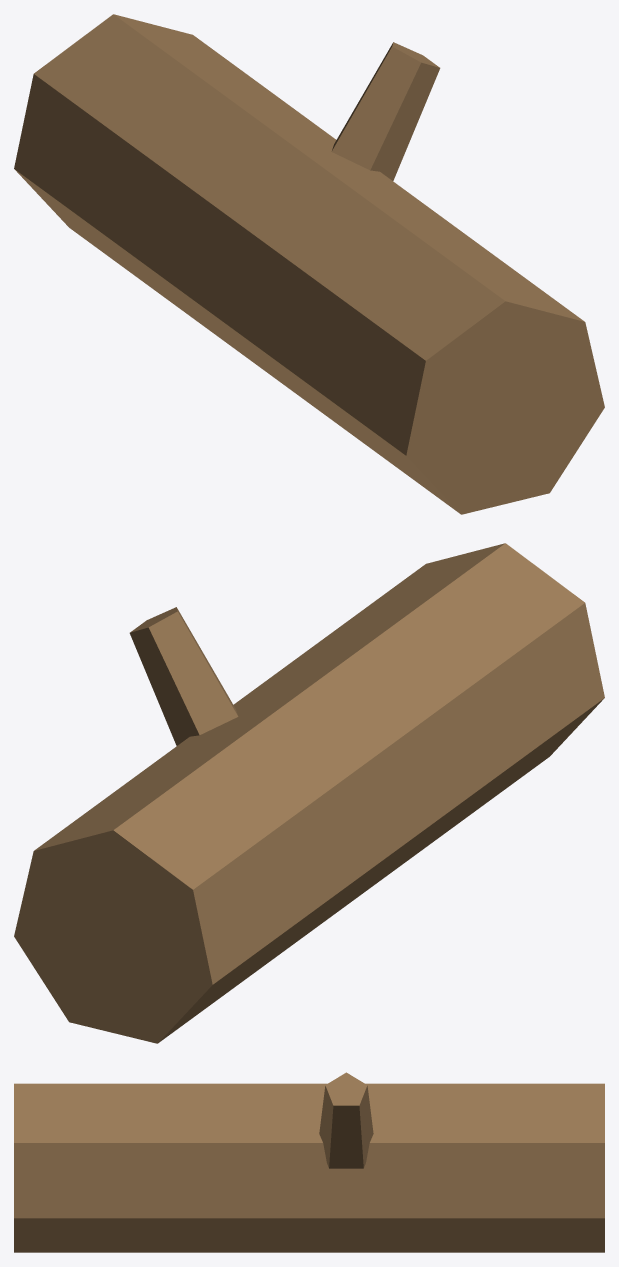
Rendered from log.glb.
3 views of the same model, one above another, from view 1: azimuth 30°, elevation 25°; view 2: azimuth 150°, elevation 25°; view 3: azimuth 270°, elevation 25° (orthographic). The views are drawn at different scales.
Parts seen in each view (by area): view 1: forest-log; view 2: forest-log; view 3: forest-log.
Boxes of the visible parts, <box> form: forest-log: <box>14,14,604,514</box>; forest-log: <box>14,543,604,1043</box>; forest-log: <box>14,1072,604,1252</box>.
Bounding box in the file's own units: 0.2898 × 0.3036 × 0.8.
